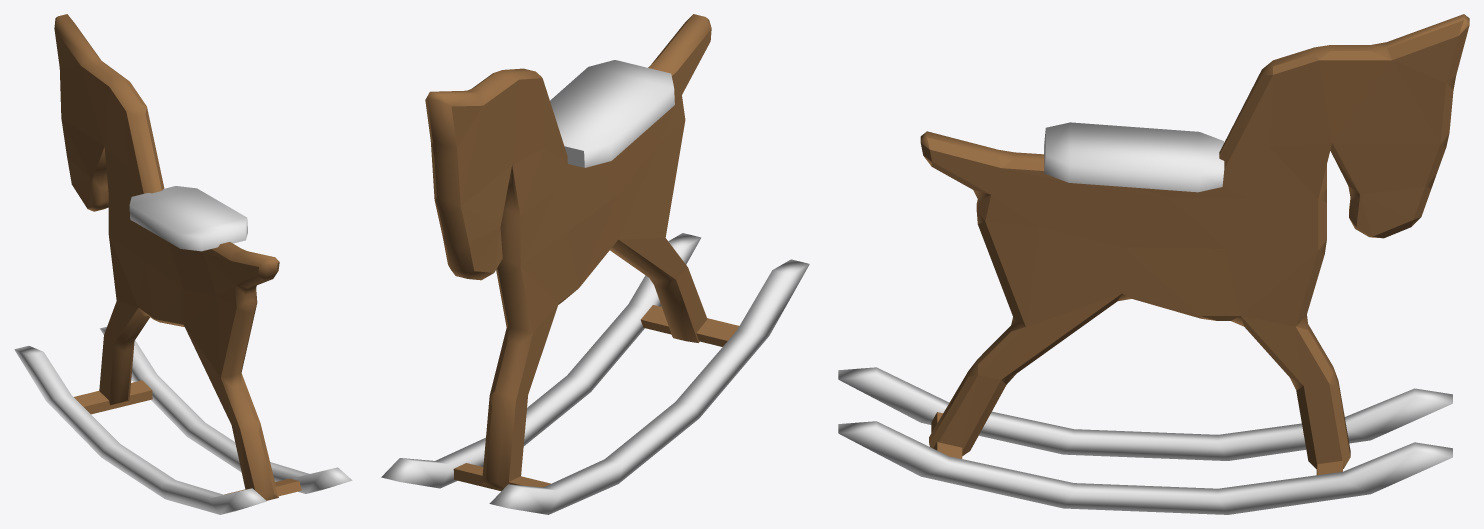
The model's file is piti_cheval2.fbx.
3 views of the same model, side by side, from view 1: azimuth 30°, elevation 25°; view 2: azimuth 150°, elevation 25°; view 3: azimuth 270°, elevation 25° (orthographic). The views are drawn at different scales.
Visible parts, largest first — view 1: Plane; view 2: Plane; view 3: Plane.
Boxes of the visible parts, x1=… form: Plane: x1=14, y1=14, x2=352, y2=514; Plane: x1=381, y1=14, x2=809, y2=514; Plane: x1=838, y1=14, x2=1469, y2=514.
Bounding box in the file's own units: 132 × 454 × 556.
